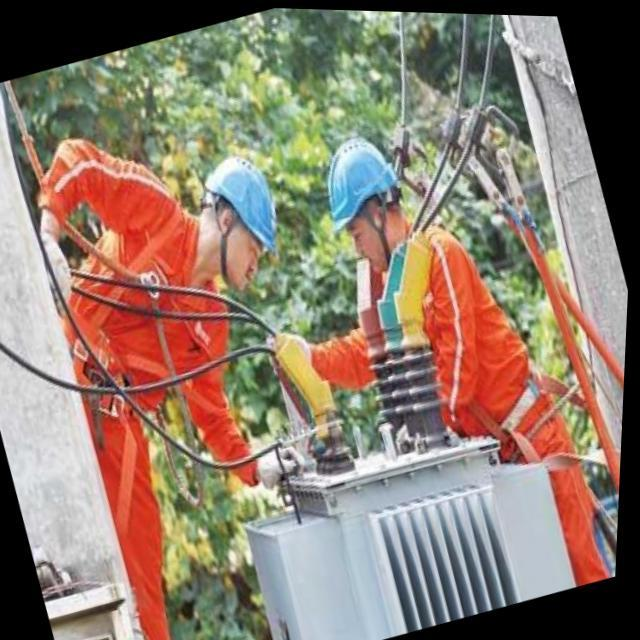belt: (443, 90, 638, 494)
